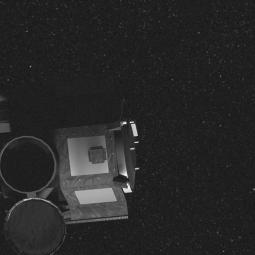cheops: (2, 95, 140, 253)
